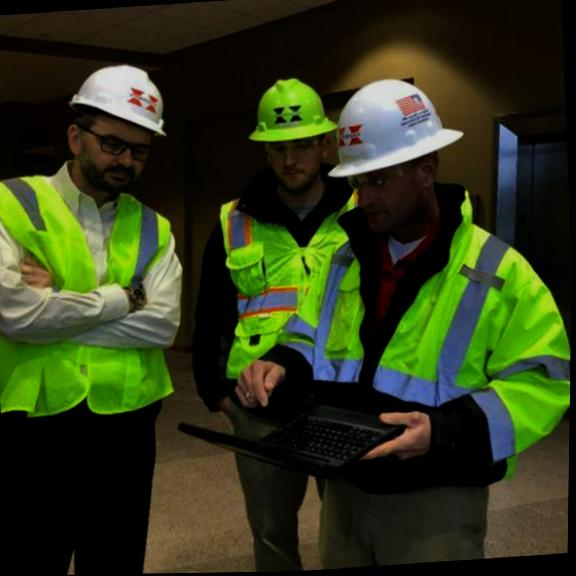safety_vest: (302, 199, 528, 466), (0, 163, 184, 448), (217, 180, 357, 386)
